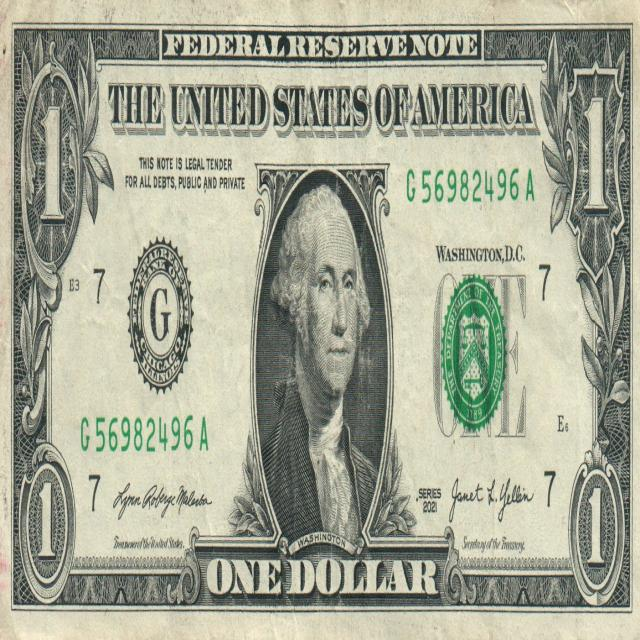SerialNumber: (81, 415, 208, 452), (407, 168, 534, 203)
